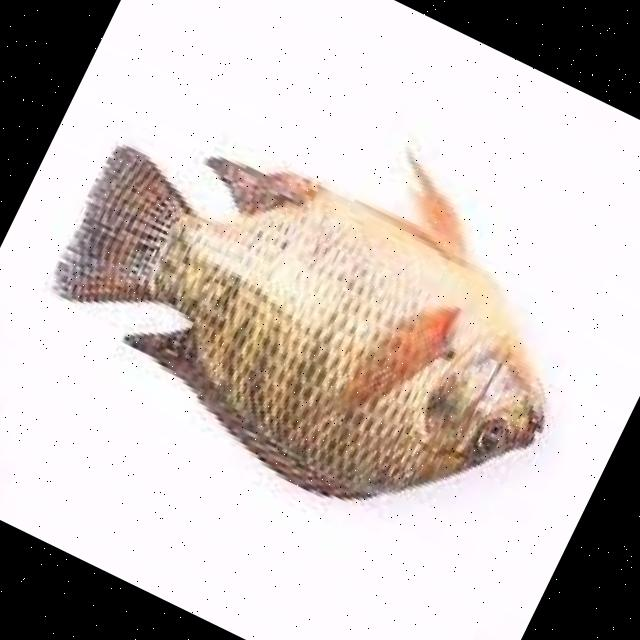ikan: (8, 29, 628, 578)
